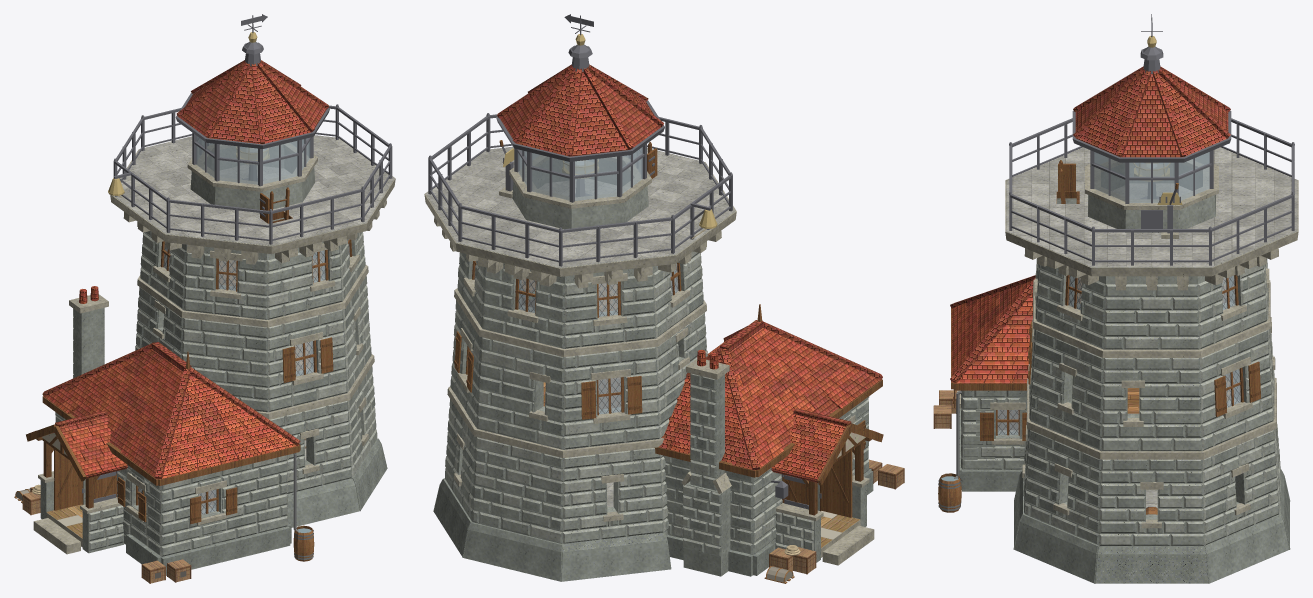
Rendered from lastlight.glb.
3 views of the same model, side by side, from view 1: azimuth 30°, elevation 25°; view 2: azimuth 150°, elevation 25°; view 3: azimuth 270°, elevation 25° (orthographic). The views are drawn at different scales.
Parts seen in each view (by area): view 1: Lastlight_Roof, Lastlight_UpperShellKeeper, Lastlight_ShellWing, Lastlight_UpperFloorGalleryTiles, Lastlight_UpperShellWatch, Lastlight_UpperGallery, Lastlight_ShellTower, Lastlight_UpperLantern, Lastlight_ShellPlinth, Lastlight_ShellPorch, Lastlight_UpperShellString, Lastlight_GlazingLantern (+7 smaller); view 2: Lastlight_Roof, Lastlight_UpperShellKeeper, Lastlight_ShellTower, Lastlight_UpperFloorGalleryTiles, Lastlight_UpperShellWatch, Lastlight_UpperGallery, Lastlight_ShellPlinth, Lastlight_UpperLantern, Lastlight_ShellWing, Lastlight_UpperShellString, Lastlight_GlazingLantern, Lastlight_ShellPorch (+6 smaller); view 3: Lastlight_UpperShellKeeper, Lastlight_ShellTower, Lastlight_Roof, Lastlight_UpperFloorGalleryTiles, Lastlight_UpperShellWatch, Lastlight_ShellPlinth, Lastlight_UpperGallery, Lastlight_UpperLantern, Lastlight_ShellWing, Lastlight_UpperShellString, Lastlight_GlazingLantern, Lastlight_Yard (+4 smaller).
Boxes of the visible parts, x1=… form: Lastlight_Roof: x1=26, y1=14, x2=329, y2=485; Lastlight_UpperShellKeeper: x1=135, y1=253, x2=371, y2=412; Lastlight_ShellWing: x1=55, y1=412, x2=291, y2=575; Lastlight_UpperFloorGalleryTiles: x1=114, y1=135, x2=394, y2=245; Lastlight_UpperShellWatch: x1=140, y1=231, x2=365, y2=319; Lastlight_UpperGallery: x1=108, y1=104, x2=395, y2=264; Lastlight_ShellTower: x1=269, y1=366, x2=377, y2=493; Lastlight_UpperLantern: x1=187, y1=133, x2=317, y2=209; Lastlight_ShellPlinth: x1=287, y1=438, x2=387, y2=527; Lastlight_ShellPorch: x1=36, y1=437, x2=124, y2=553; Lastlight_UpperShellString: x1=137, y1=265, x2=374, y2=419; Lastlight_GlazingLantern: x1=196, y1=135, x2=310, y2=184; Lastlight_Roof: x1=496, y1=14, x2=883, y2=576; Lastlight_UpperShellKeeper: x1=450, y1=300, x2=707, y2=449; Lastlight_ShellTower: x1=445, y1=399, x2=668, y2=543; Lastlight_UpperFloorGalleryTiles: x1=425, y1=146, x2=735, y2=267; Lastlight_UpperShellWatch: x1=457, y1=251, x2=703, y2=348; Lastlight_UpperGallery: x1=424, y1=113, x2=736, y2=288; Lastlight_ShellPlinth: x1=433, y1=478, x2=671, y2=581; Lastlight_UpperLantern: x1=509, y1=144, x2=651, y2=229; Lastlight_ShellWing: x1=663, y1=396, x2=873, y2=576; Lastlight_UpperShellString: x1=447, y1=288, x2=706, y2=457; Lastlight_GlazingLantern: x1=518, y1=147, x2=642, y2=200; Lastlight_ShellPorch: x1=775, y1=437, x2=871, y2=562; Lastlight_UpperShellKeeper: x1=1028, y1=317, x2=1275, y2=451; Lastlight_ShellTower: x1=1022, y1=417, x2=1280, y2=546; Lastlight_Roof: x1=950, y1=14, x2=1231, y2=390; Lastlight_UpperFloorGalleryTiles: x1=1006, y1=147, x2=1297, y2=266; Lastlight_UpperShellWatch: x1=1034, y1=200, x2=1269, y2=349; Lastlight_ShellPlinth: x1=1013, y1=469, x2=1290, y2=583; Lastlight_UpperGallery: x1=1005, y1=118, x2=1298, y2=290; Lastlight_UpperLantern: x1=1085, y1=150, x2=1218, y2=232; Lastlight_ShellWing: x1=953, y1=390, x2=1026, y2=491; Lastlight_UpperShellString: x1=1027, y1=280, x2=1276, y2=459; Lastlight_GlazingLantern: x1=1094, y1=152, x2=1209, y2=202; Lastlight_Yard: x1=933, y1=390, x2=961, y2=512.
Bounding box in the file's own units: 11.98 × 15.56 × 10.04.
38 materials, 22 textured.
